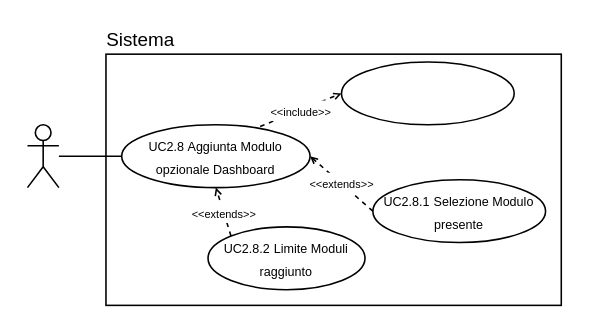
The diagram is 589 pixels wide and 333 high, and some of its shapes have lost their labels. The box of each missing label's shape, as (x1, y1, x2, y2) in pixels:
UC2.9.1 Selezione Modulo non presente: (340, 60, 514, 125)
Utente: (26, 123, 59, 188)
